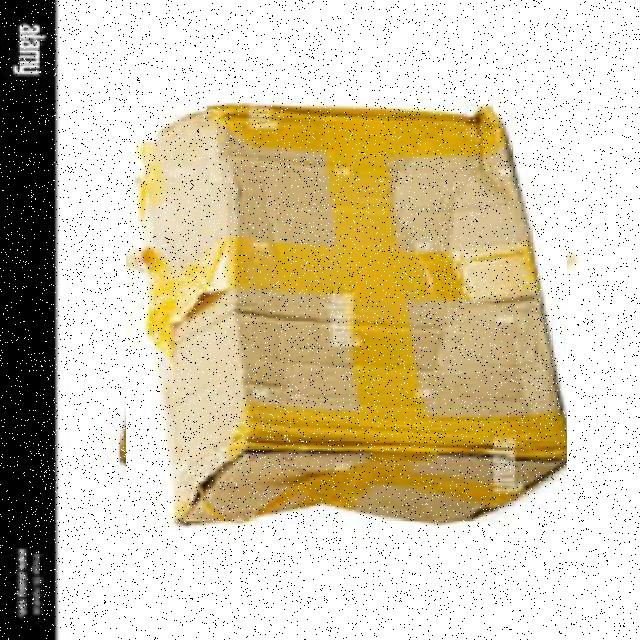defect: (125, 96, 566, 532)
